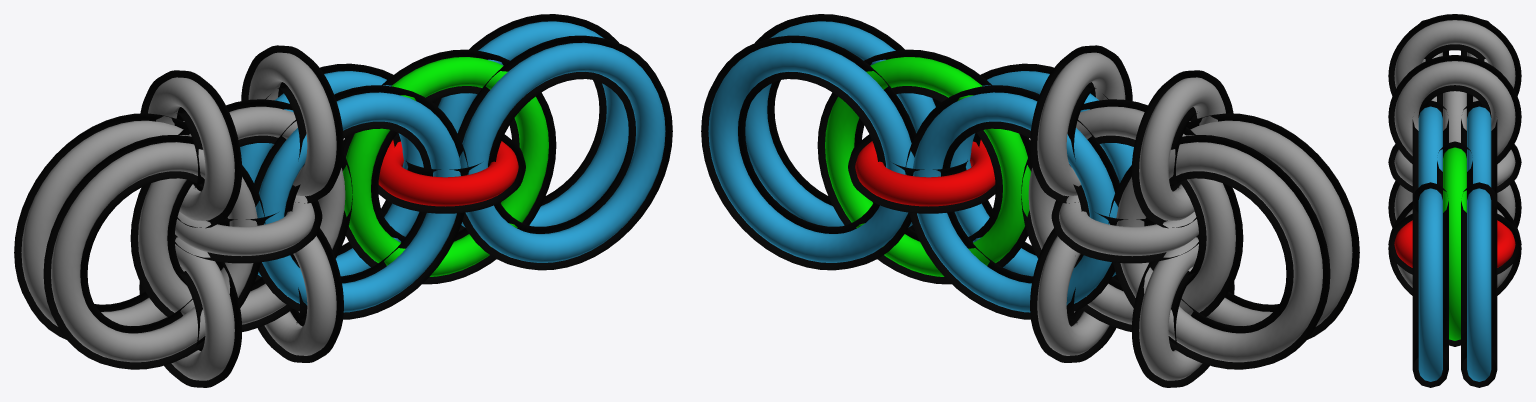
Rendered from heltic_step_05.glb.
3 views of the same model, side by side, from view 1: azimuth 30°, elevation 25°; view 2: azimuth 150°, elevation 25°; view 3: azimuth 270°, elevation 25° (orthographic). The views are drawn at different scales.
Parts seen in each view (by area): view 1: Torus.012, Torus.003, Torus.004, Torus.014, Torus.008, Torus.002, Torus.013, Torus.006, Torus.005, Torus.011, Torus.009, Torus.010 (+2 smaller); view 2: Torus.013, Torus.002, Torus.001, Torus.014, Torus.008, Torus.003, Torus.012, Torus.006, Torus.005, Torus.011, Torus.009, Torus.010 (+2 smaller); view 3: Torus.012, Torus.013, Torus.005, Torus.006, Torus.014, Torus.001, Torus.004, Torus.011, Torus.007, Torus.009, Torus.010, Torus.008.
Part boxes in pixels (x1,y1,x2,y2): Torus.012: [457, 35, 672, 270]; Torus.003: [43, 135, 265, 369]; Torus.004: [254, 85, 468, 319]; Torus.014: [343, 49, 556, 284]; Torus.008: [130, 99, 352, 331]; Torus.002: [14, 113, 187, 339]; Torus.013: [432, 14, 628, 231]; Torus.006: [140, 70, 242, 228]; Torus.005: [241, 45, 343, 203]; Torus.011: [378, 134, 525, 213]; Torus.009: [139, 237, 242, 387]; Torus.010: [257, 228, 343, 362]; Torus.013: [701, 35, 916, 270]; Torus.002: [1108, 135, 1330, 369]; Torus.001: [905, 85, 1119, 319]; Torus.014: [817, 49, 1030, 284]; Torus.008: [1021, 99, 1243, 331]; Torus.003: [1186, 113, 1359, 339]; Torus.012: [745, 14, 941, 231]; Torus.006: [1131, 70, 1233, 228]; Torus.005: [1030, 45, 1132, 203]; Torus.011: [848, 134, 995, 213]; Torus.009: [1131, 237, 1234, 387]; Torus.010: [1030, 228, 1116, 362]; Torus.012: [1412, 182, 1448, 387]; Torus.013: [1461, 182, 1497, 387]; Torus.005: [1388, 55, 1521, 163]; Torus.006: [1388, 14, 1521, 95]; Torus.014: [1437, 141, 1472, 346]; Torus.001: [1461, 100, 1497, 199]; Torus.004: [1412, 100, 1448, 199]; Torus.011: [1388, 213, 1521, 274]; Torus.007: [1388, 144, 1521, 192]; Torus.009: [1388, 181, 1521, 227]; Torus.010: [1388, 201, 1521, 295]; Torus.008: [1437, 91, 1472, 142].
Bounding box in the file's own units: 9.8 × 4.6 × 2.2.
